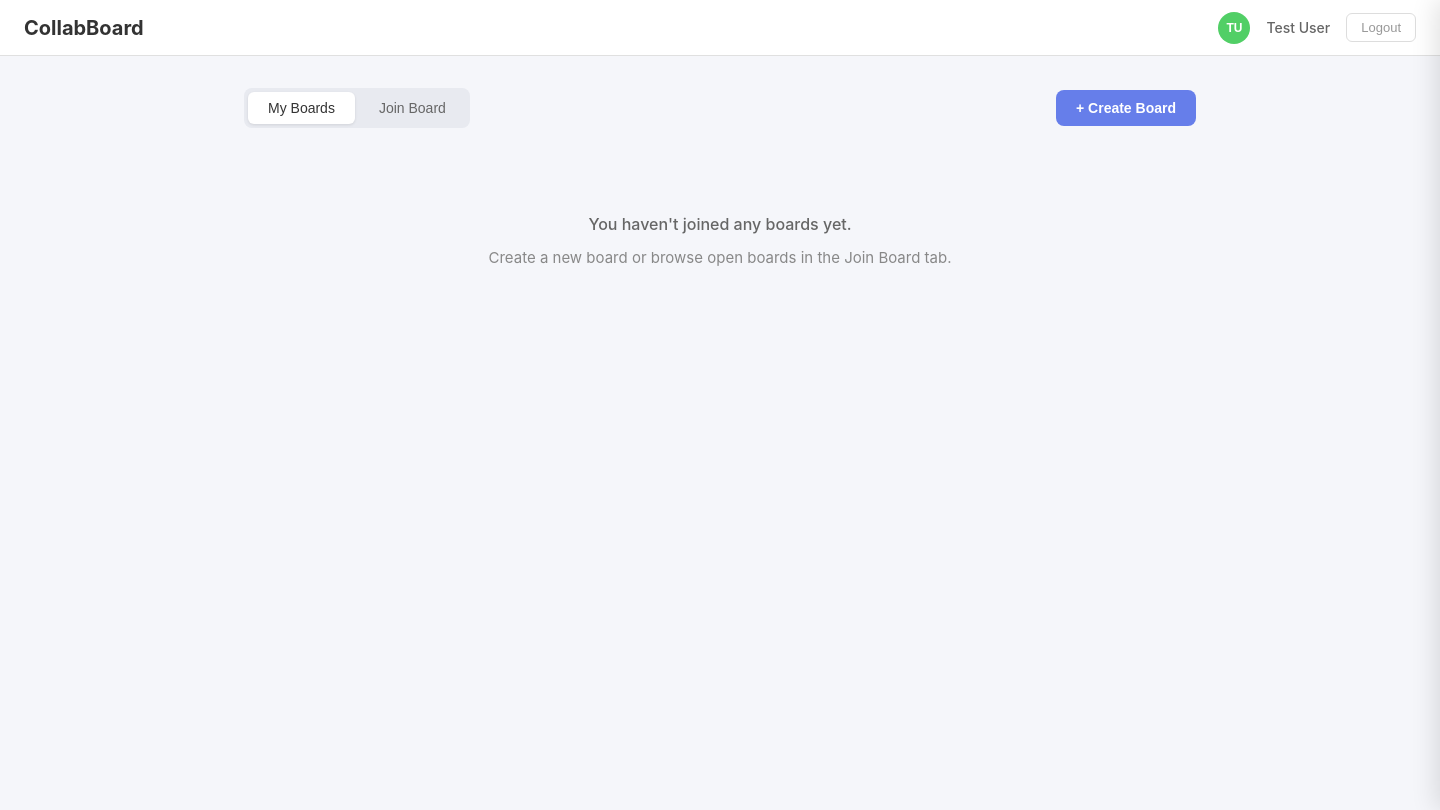
it: Dashboard › opens and closes the create board modal
Click the button "+ Create Board" at (1126, 108), box left=1056, top=90, right=1196, bottom=126
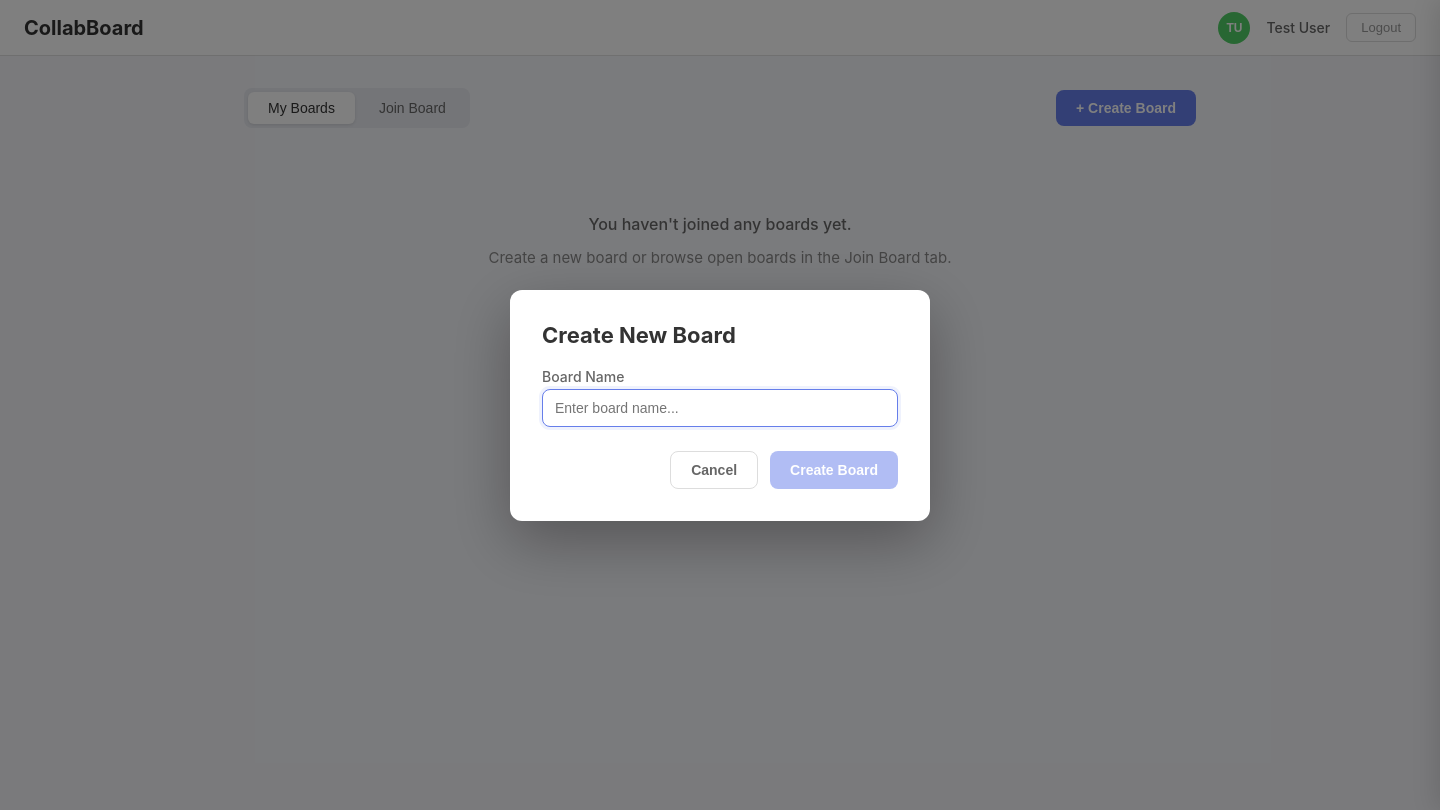
Now the heading "Create New Board" is shown, box left=542, top=322, right=736, bottom=348
Click the button "Cancel" at (714, 470), box left=670, top=450, right=758, bottom=488
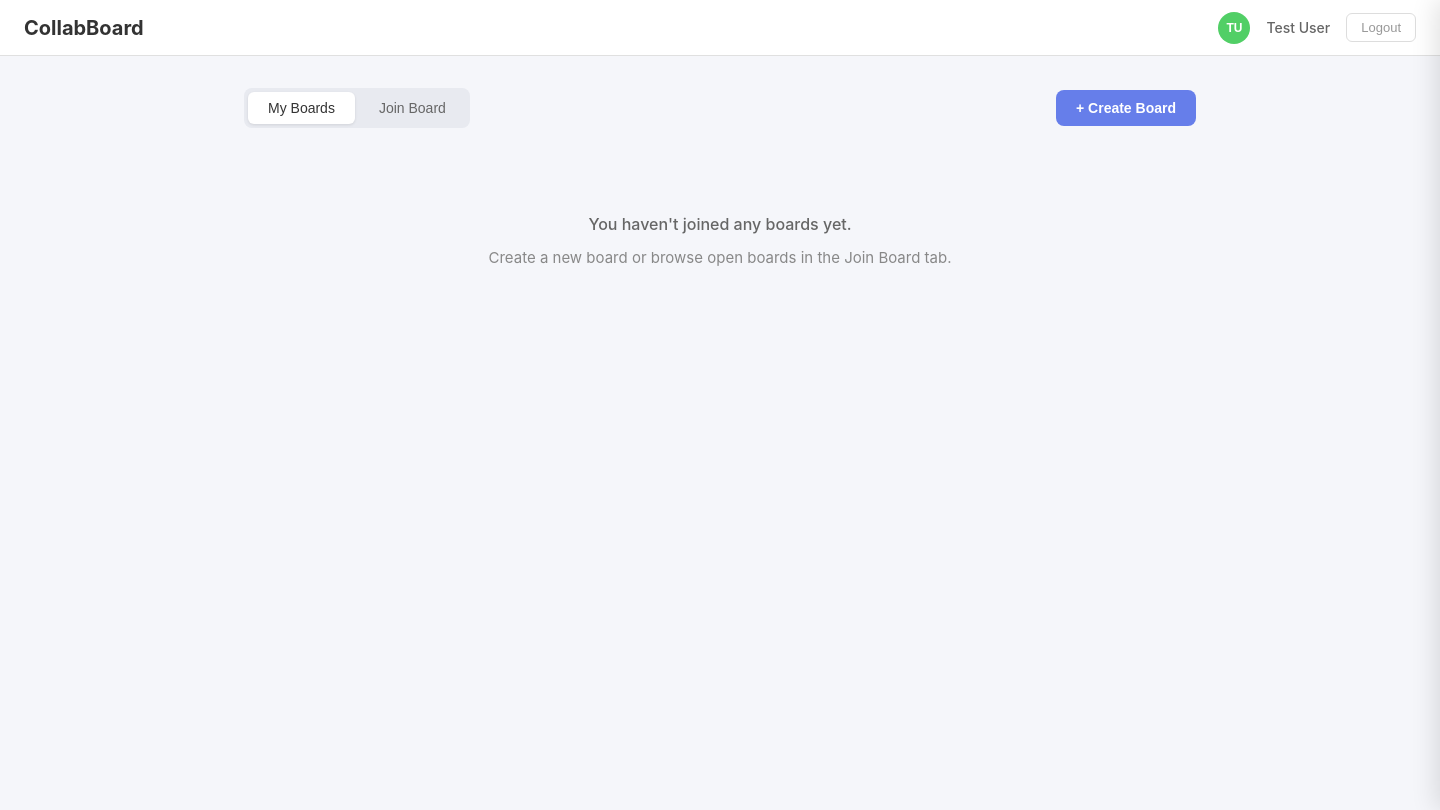
Now the heading "Create New Board" is gone
